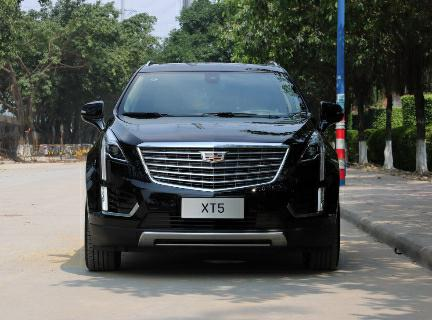凯迪拉克-SLS赛威: (75, 58, 349, 280)
